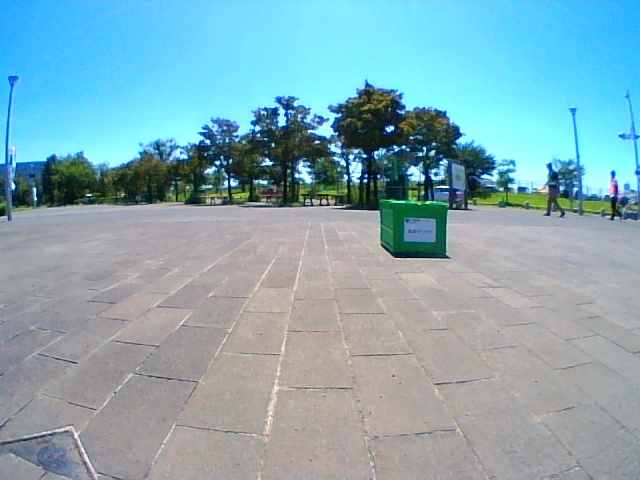green_box: (380, 200, 447, 254)
